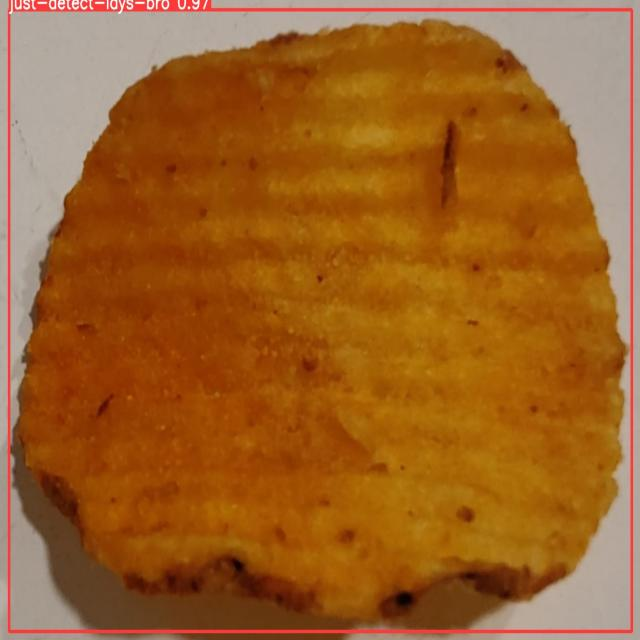Wet Waste: (12, 17, 626, 615)
